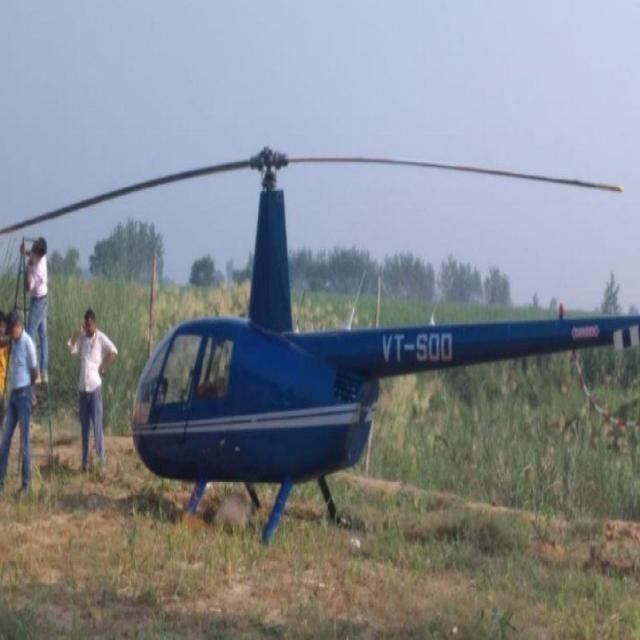helicopter: (34, 142, 588, 533)
